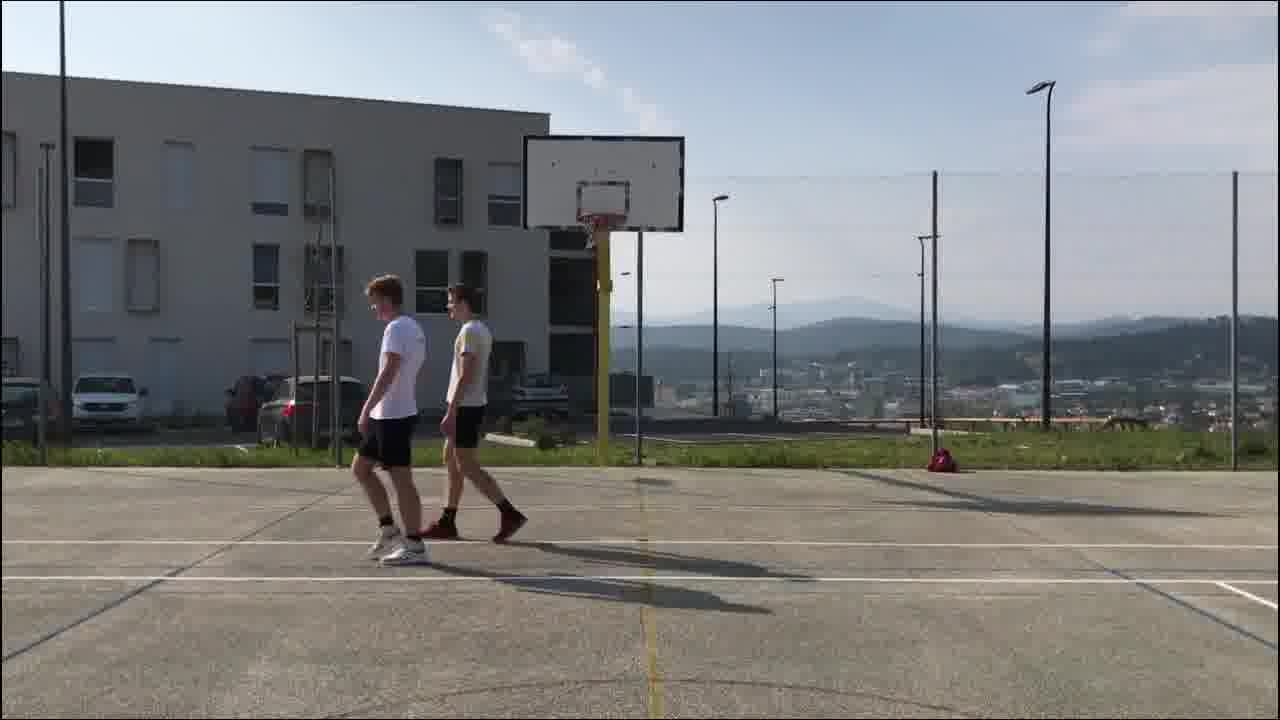jugador: (397, 275, 533, 551)
